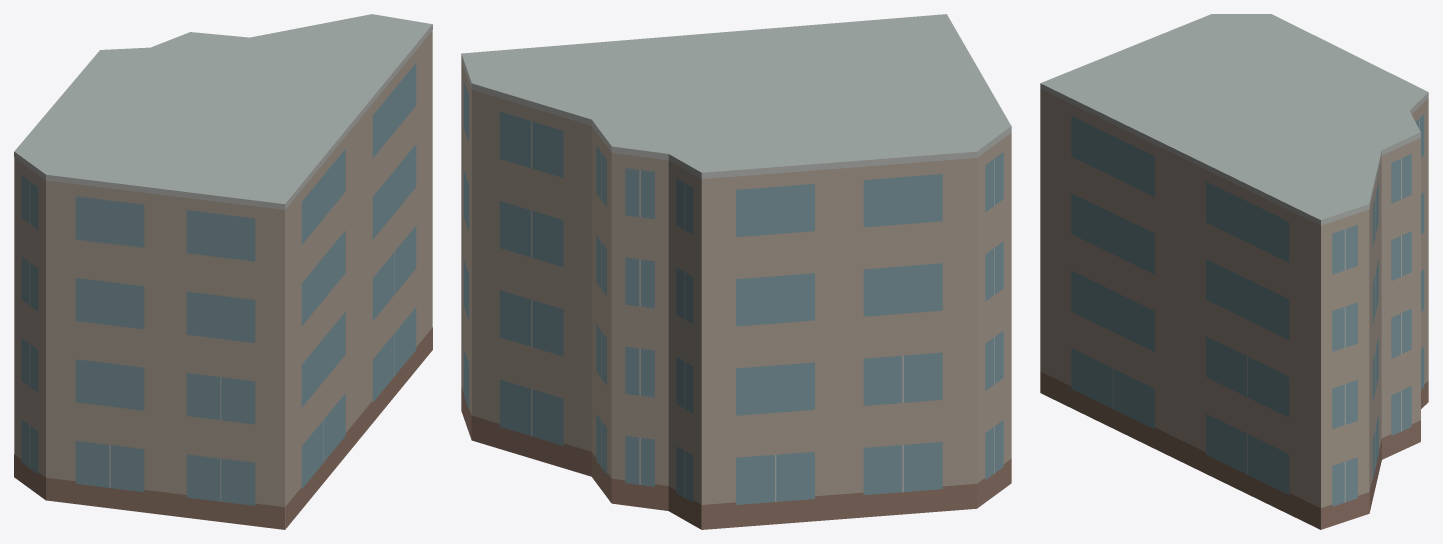
File: survey-upis-32856285.glb
3 views of the same model, side by side, from view 1: azimuth 30°, elevation 25°; view 2: azimuth 150°, elevation 25°; view 3: azimuth 270°, elevation 25° (orthographic). The views are drawn at different scales.
Parts seen in each view (by area): view 1: survey-upis-32856285.tmp; view 2: survey-upis-32856285.tmp; view 3: survey-upis-32856285.tmp.
Boxes of the visible parts, box(x1,y1,x2,y2) form: survey-upis-32856285.tmp: box(14, 14, 432, 529); survey-upis-32856285.tmp: box(461, 14, 1011, 529); survey-upis-32856285.tmp: box(1040, 14, 1428, 529).
Bounding box in the file's own units: 19.57 × 13.7 × 15.58.
